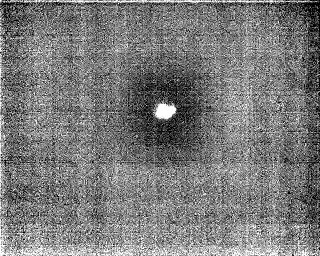AIRPLANE: (152, 99, 178, 123)
